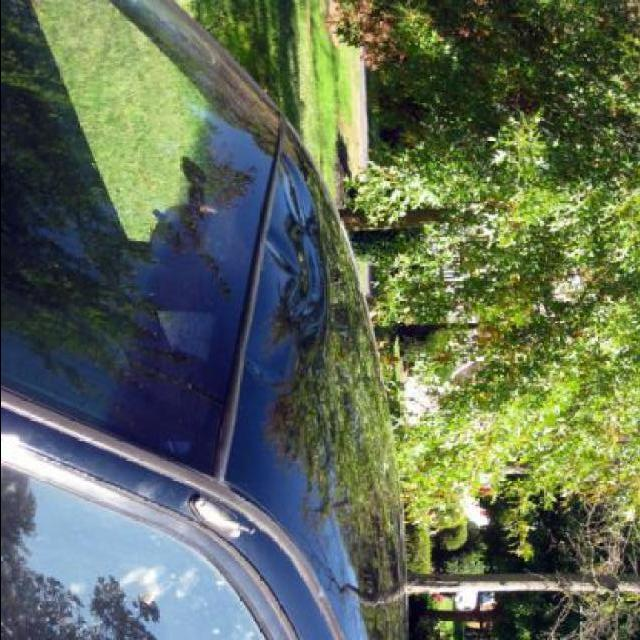roof-dent: (243, 137, 335, 371)
